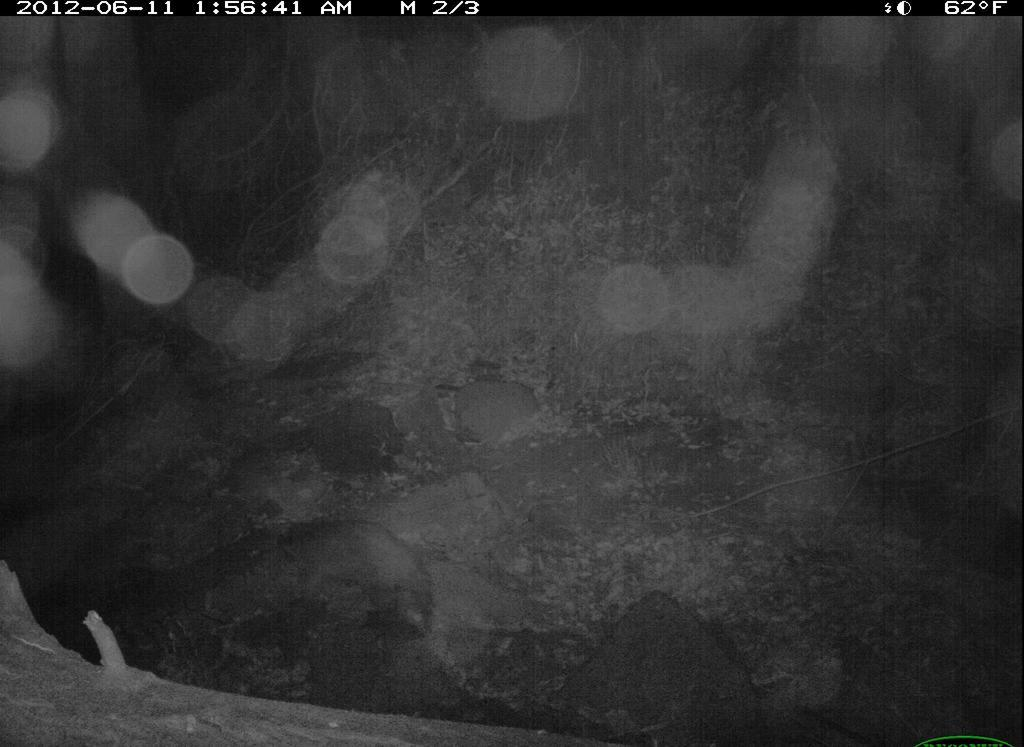raccoon: (264, 510, 446, 637)
